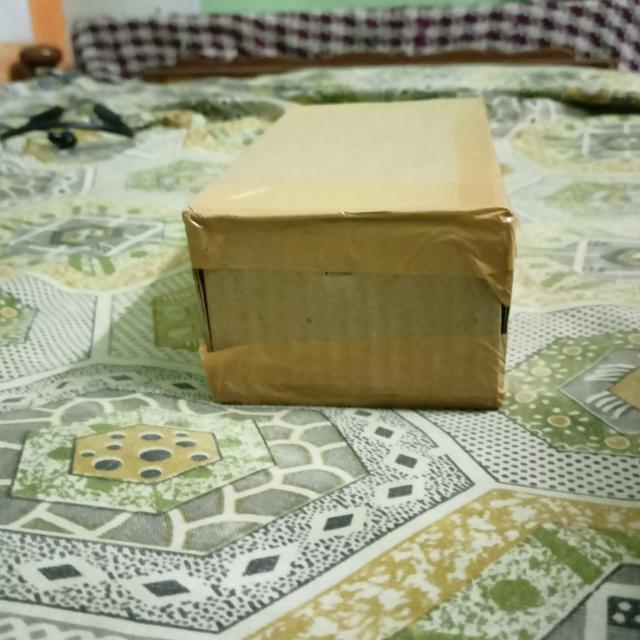box: (186, 213, 506, 406)
